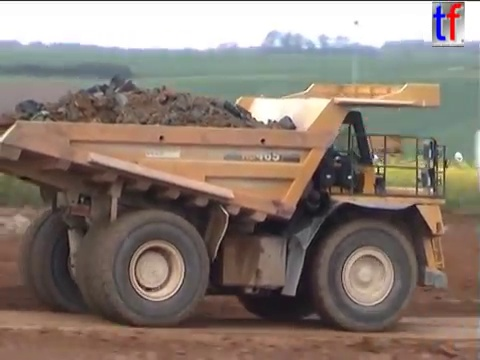truck: (1, 78, 465, 334)
